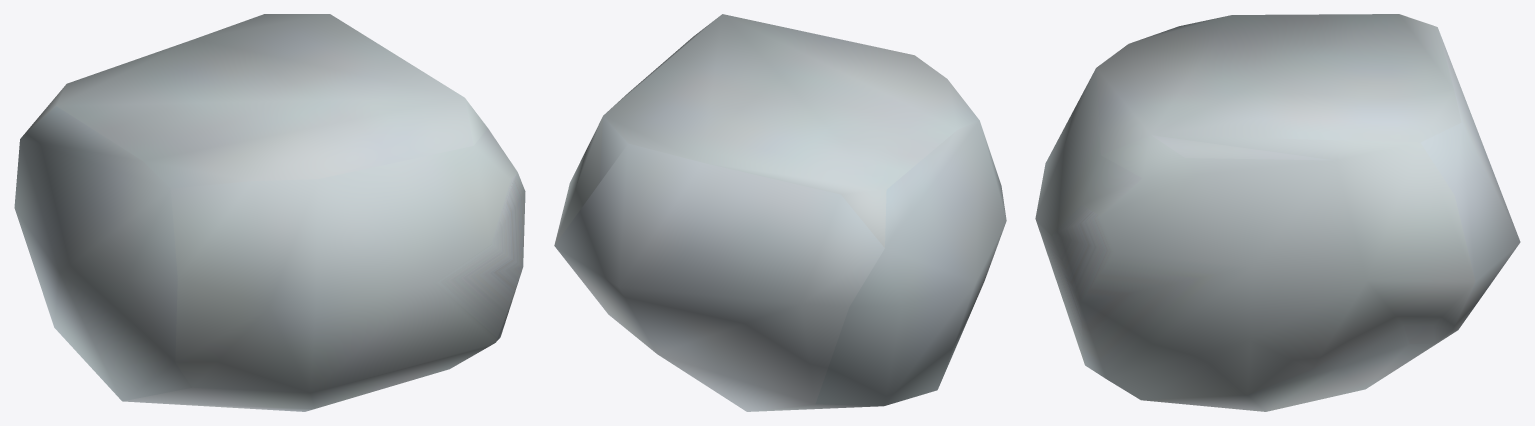
The model's file is P_RockDesert_Rock01.obj.
3 renders of one model, left to right at view 1: azimuth 30°, elevation 25°; view 2: azimuth 150°, elevation 25°; view 3: azimuth 270°, elevation 25°, orthographic. The views are drawn at different scales.
Bounding box in the file's own units: 0.4366 × 0.3236 × 0.4454.
